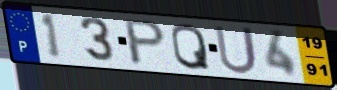1: (39, 12, 61, 60)
3: (79, 16, 117, 63)
4: (263, 27, 300, 80)
P: (123, 18, 168, 67)
Q: (169, 22, 213, 72)
U: (212, 24, 260, 77)
